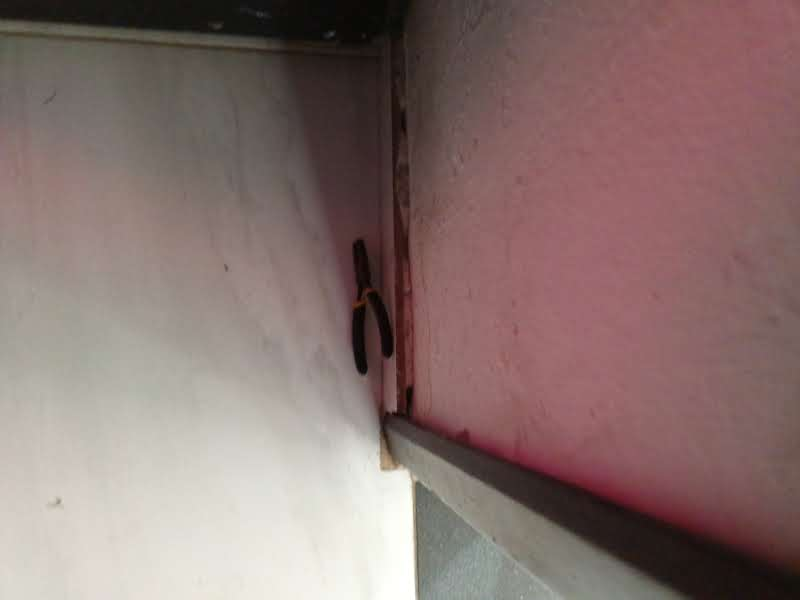Pinzas: (352, 239, 392, 373)
